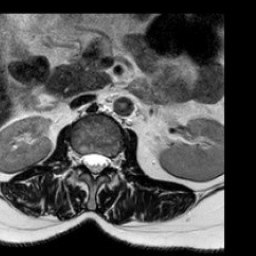CCS_normal: (90, 143, 99, 187)
LFS_normal: (108, 143, 116, 176)
LLS_normal: (99, 143, 109, 178)
RFS_normal: (71, 139, 81, 174)
RLS_normal: (80, 145, 90, 176)
